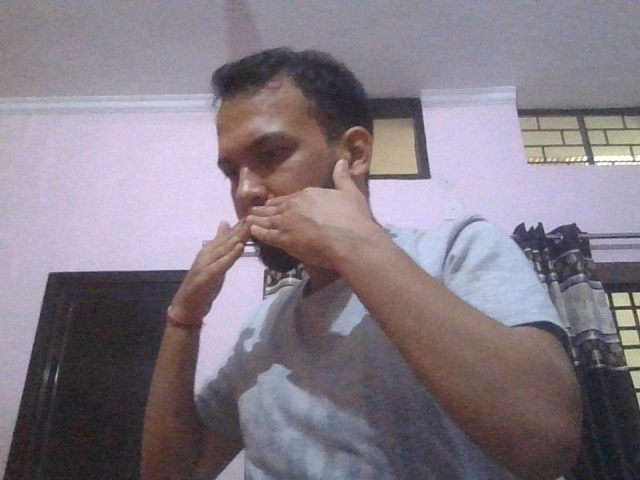thanks: (167, 159, 431, 315)
